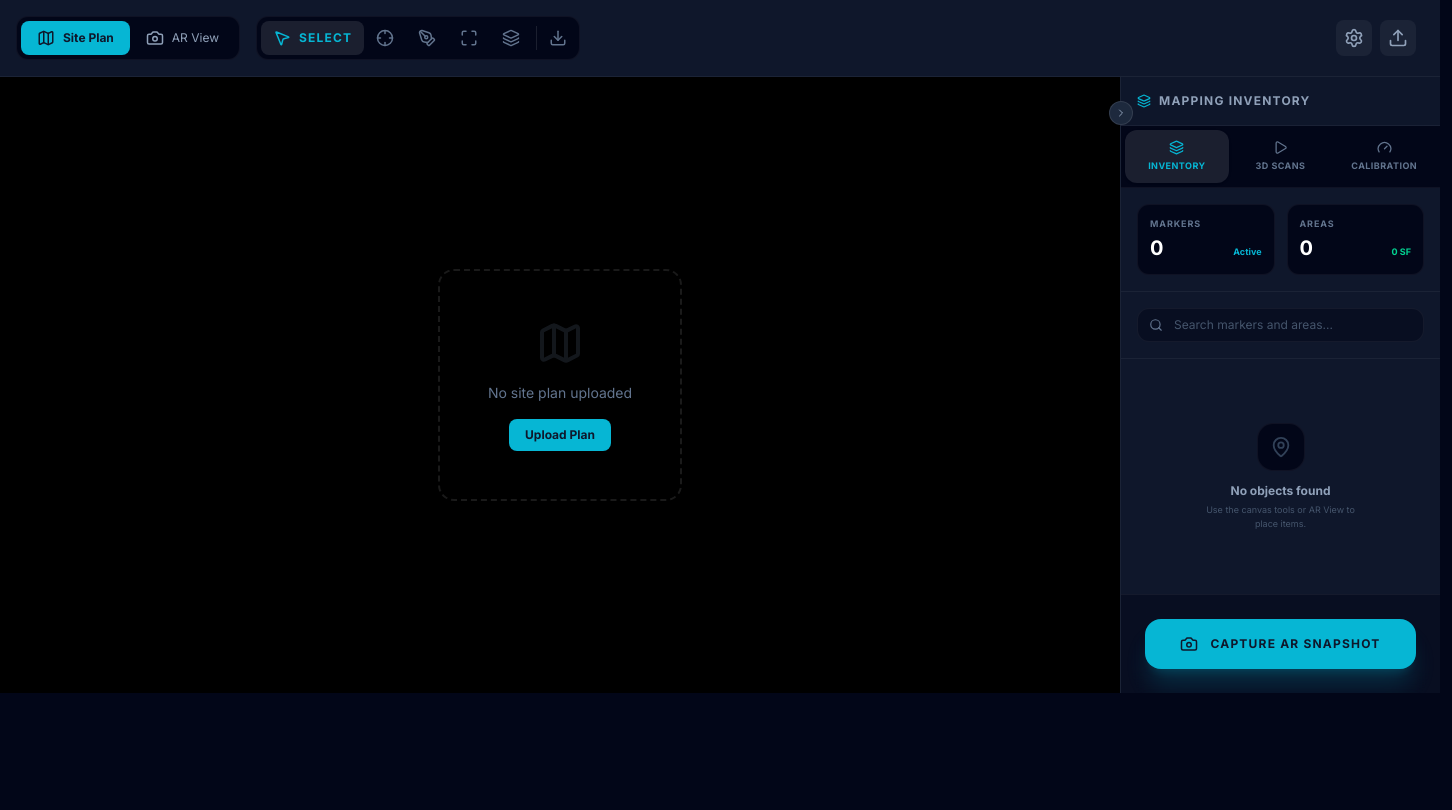
Test case: ARMapping › opens the export menu when the Download button is clicked
Click the button titled "Export Site Plan" at (558, 38), box [541,21,575,55]
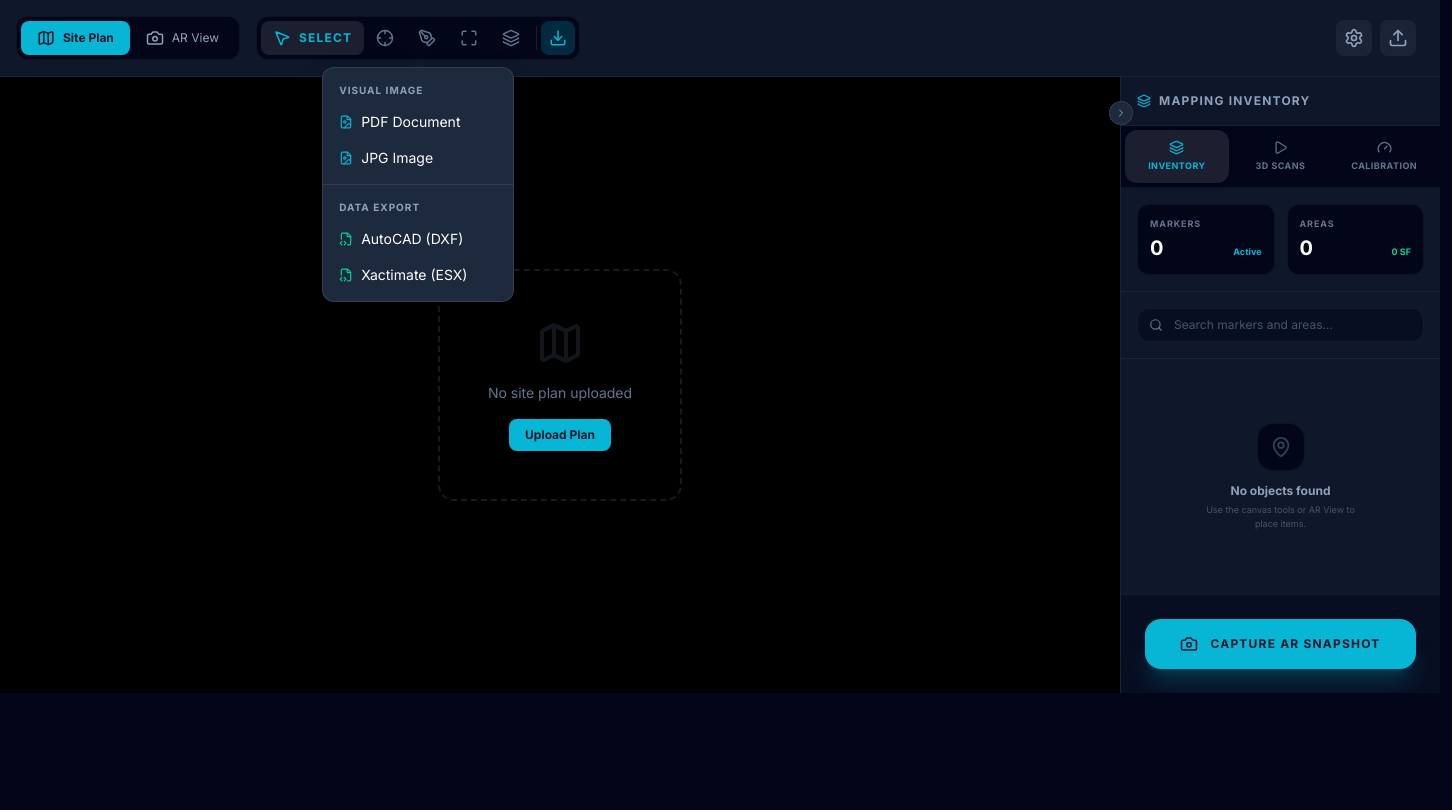
Now the button "PDF Document" is shown, box [331,104,505,140]
Now the button "AutoCAD (DXF)" is shown, box [331,221,505,257]
